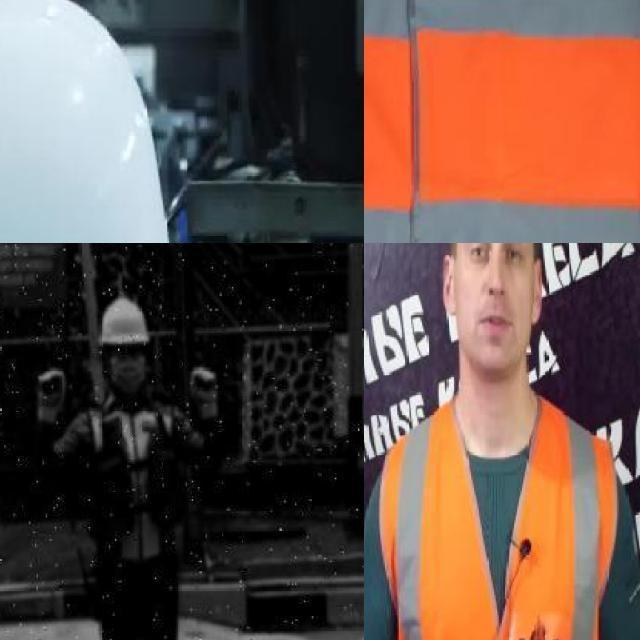apron: (34, 366, 70, 428), (188, 366, 222, 422)
